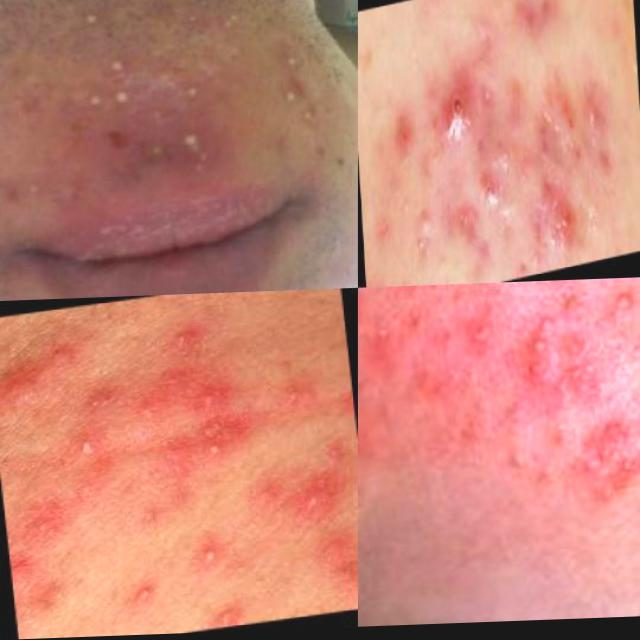8: (433, 68, 483, 153), (471, 168, 508, 223)
9: (516, 308, 560, 366), (189, 531, 231, 581), (598, 283, 640, 326), (276, 378, 308, 430), (358, 315, 389, 354), (72, 430, 100, 466), (128, 577, 156, 611), (200, 435, 228, 467)
blackheads: (538, 181, 588, 262), (576, 416, 640, 469), (170, 127, 224, 175), (1, 367, 46, 418)
dark spot: (413, 205, 437, 274)
whiteheads: (72, 44, 150, 128), (266, 46, 330, 134), (208, 3, 252, 46), (293, 475, 326, 530), (22, 507, 64, 547), (190, 378, 230, 418), (176, 72, 218, 109), (81, 0, 118, 34), (167, 325, 204, 354)
